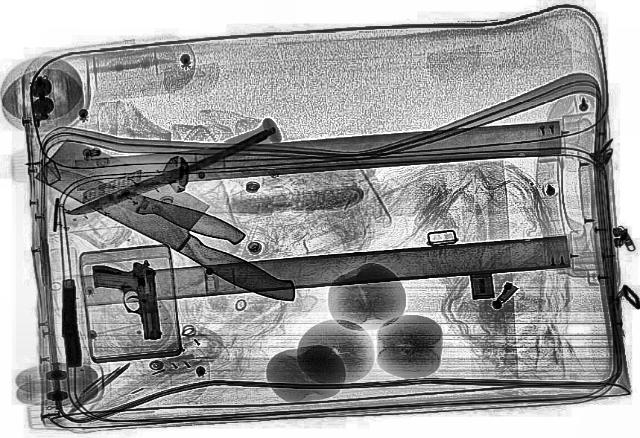Gun: (90, 260, 164, 342), (58, 280, 82, 366)
Knife: (21, 136, 336, 306), (26, 154, 250, 248), (62, 129, 278, 221)
